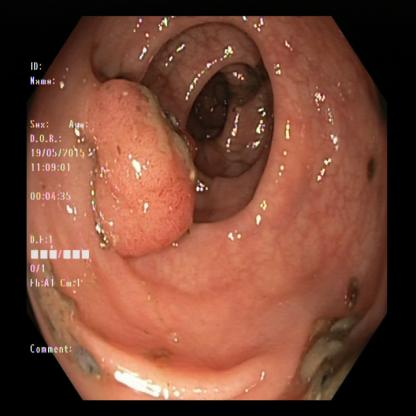Labels: (27, 60, 94, 358)
Polyps: (95, 74, 198, 250)
